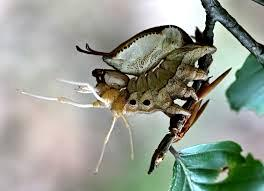Lobster Moth: (92, 29, 212, 130)
